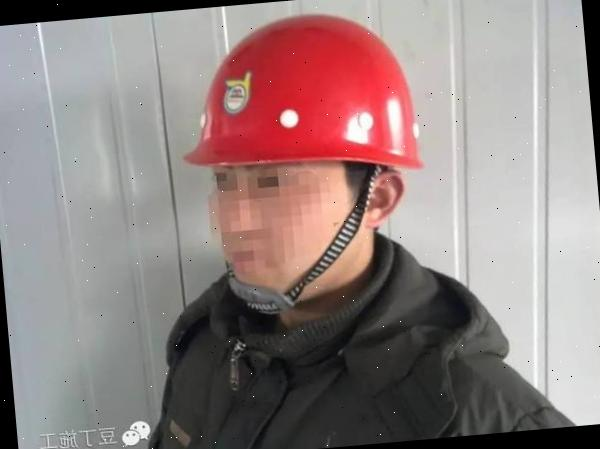helmet: (164, 2, 448, 196)
no_wear: (145, 279, 561, 449)
